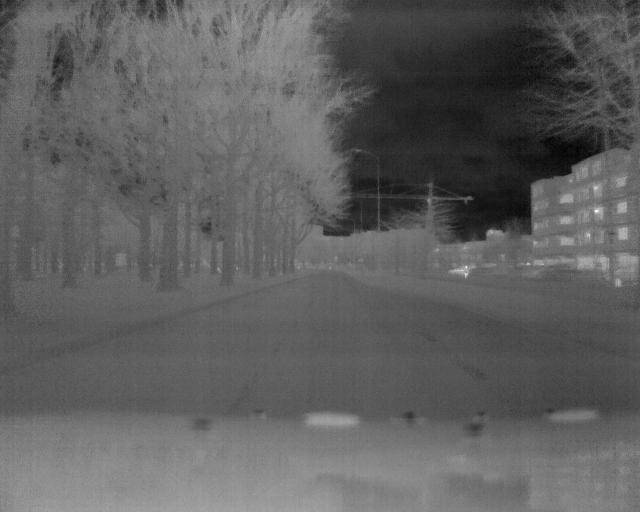person: (462, 265, 470, 282)
